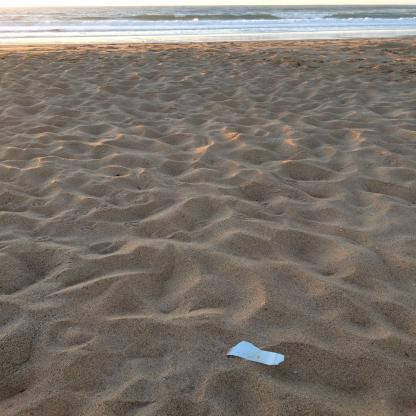kagit: (228, 341, 286, 369)
